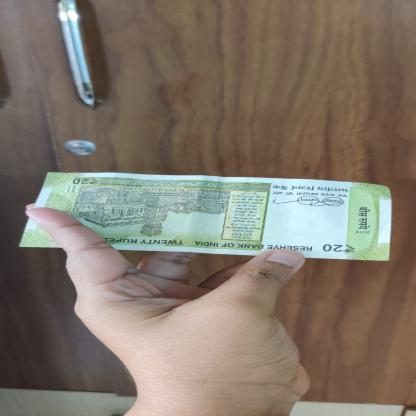New20Back: (15, 172, 395, 261)
